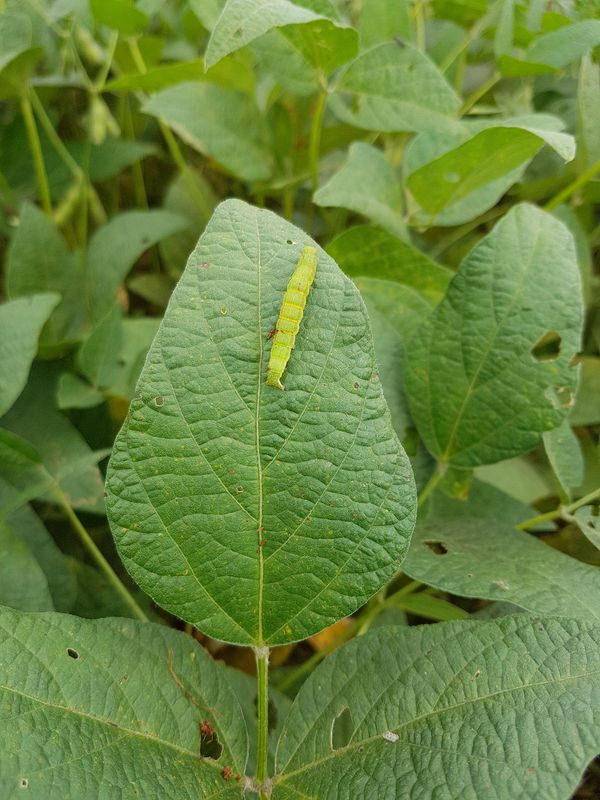Anticarsia_gemmatalis: (247, 235, 354, 410)
